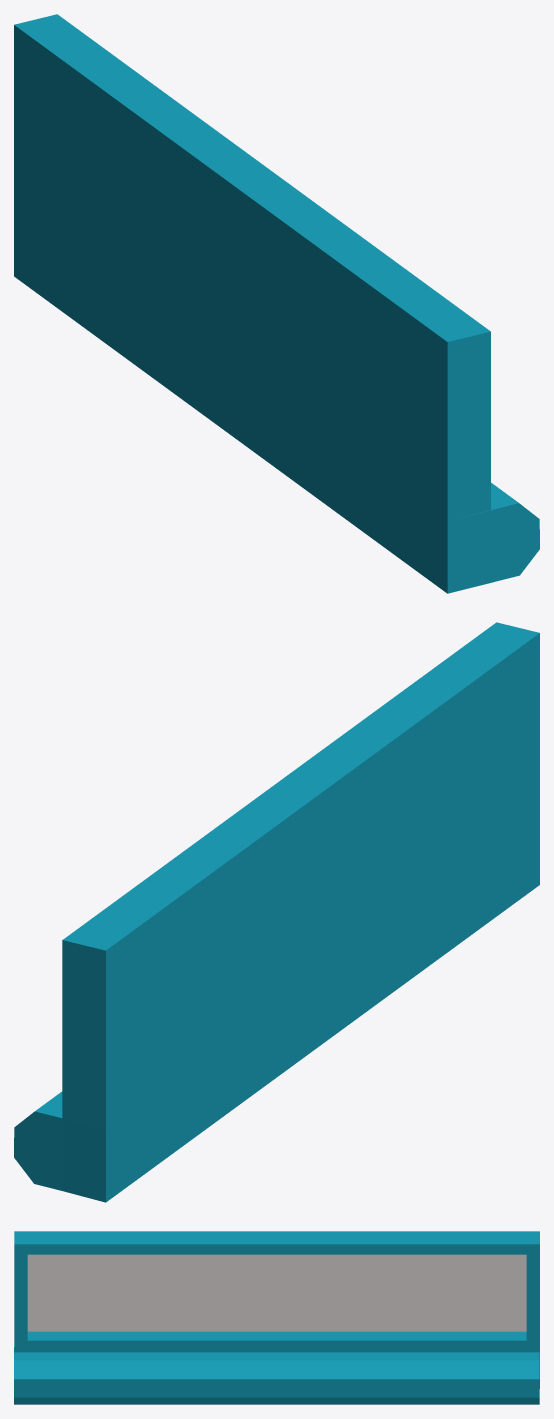
The model's file is storefront.fbx.
3 views of the same model, one above another, from view 1: azimuth 30°, elevation 25°; view 2: azimuth 150°, elevation 25°; view 3: azimuth 270°, elevation 25° (orthographic). The views are drawn at different scales.
Parts seen in each view (by area): view 1: Cylinder; view 2: Cylinder; view 3: Cylinder.
Part boxes in pixels (box(x1,y1,x2,y2)): Cylinder: box(14, 14, 539, 593); Cylinder: box(14, 622, 539, 1202); Cylinder: box(14, 1231, 539, 1404).
Size of the model in its own units: 49.07 by 128 by 400.
